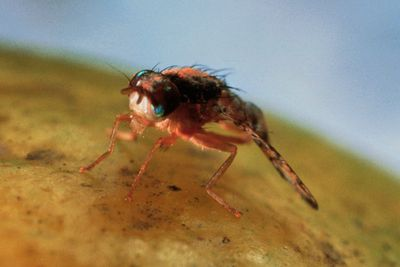green bottles flies: (76, 50, 326, 237)
